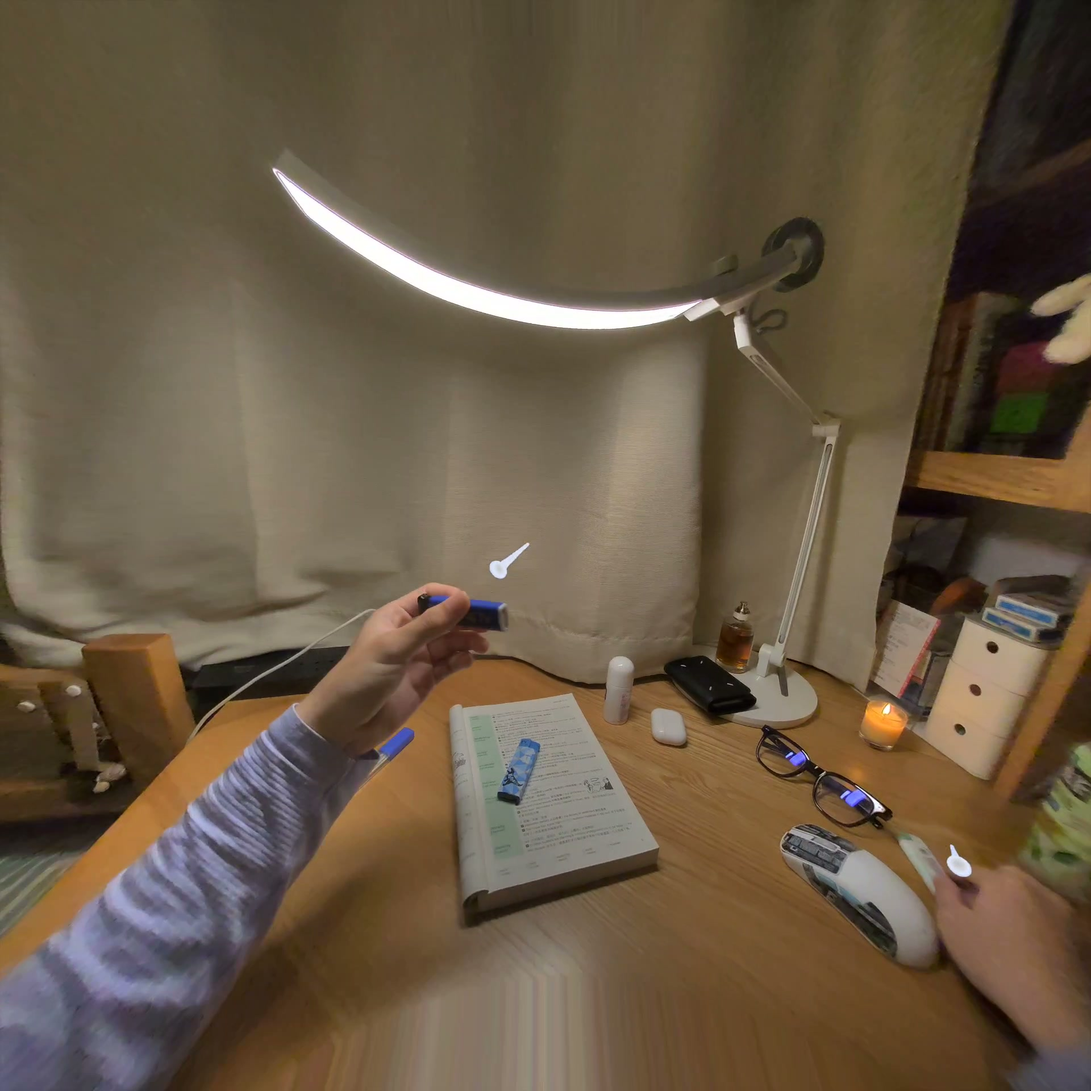lighter: (460, 599, 507, 631)
